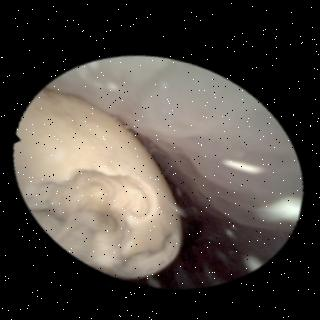stone: (18, 91, 181, 277)
tissue: (55, 58, 295, 283)
